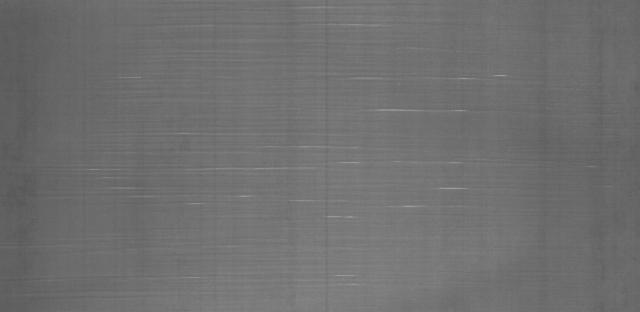waist_folding: (112, 15, 476, 268)
